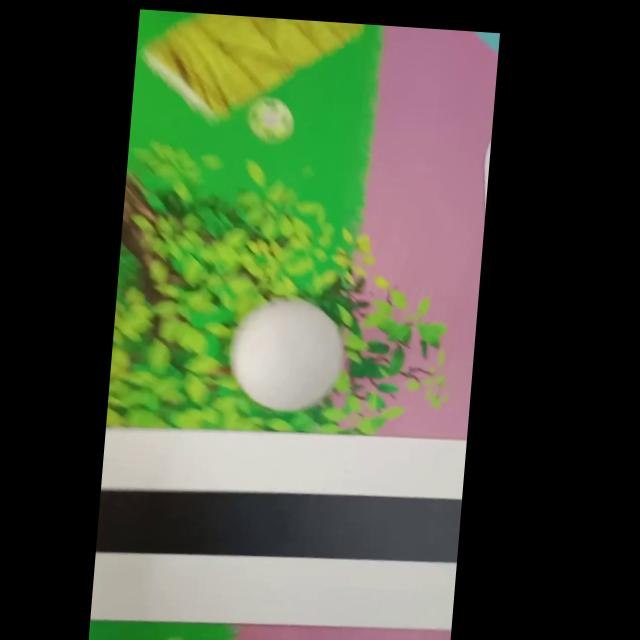white ball: (225, 292, 349, 416)
